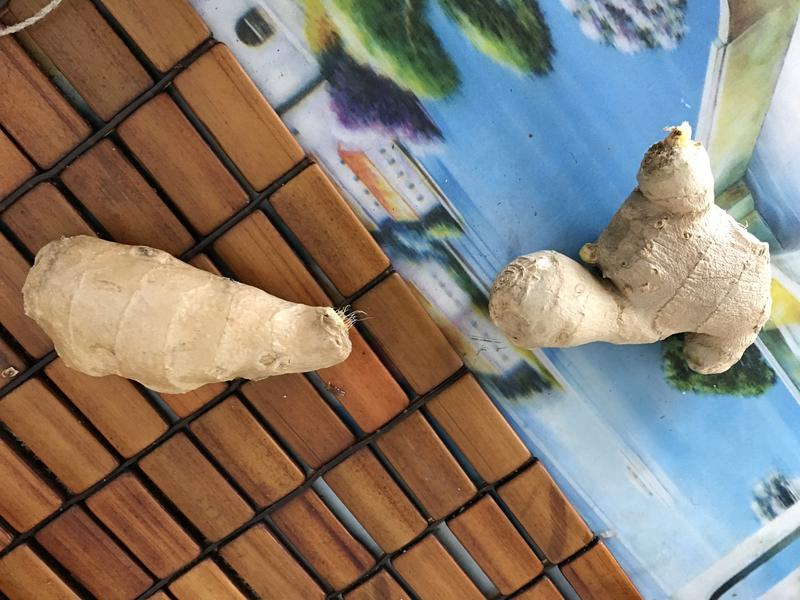ginger: (476, 113, 778, 382), (13, 233, 359, 398)
